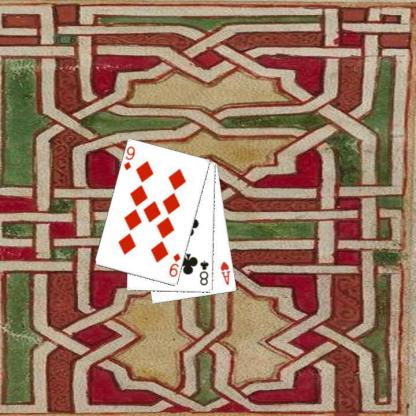8C: (197, 258, 210, 287)
9D: (166, 251, 182, 278), (122, 144, 136, 171)
AH: (218, 259, 232, 286)
